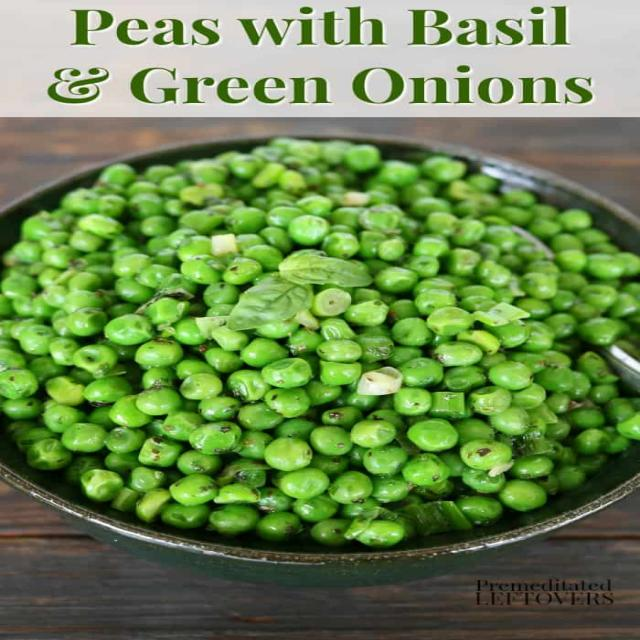Peas: (18, 187, 619, 486)
